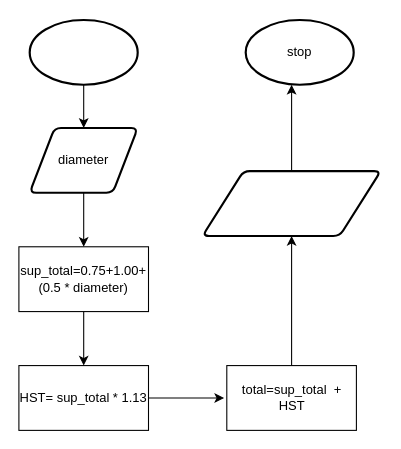
This 401x449 diagram has some shape labels left out. Each missing label, with the centre of its shape:
"Show total" belongs at pixel 291 203.
"start" belongs at pixel 83 51.
